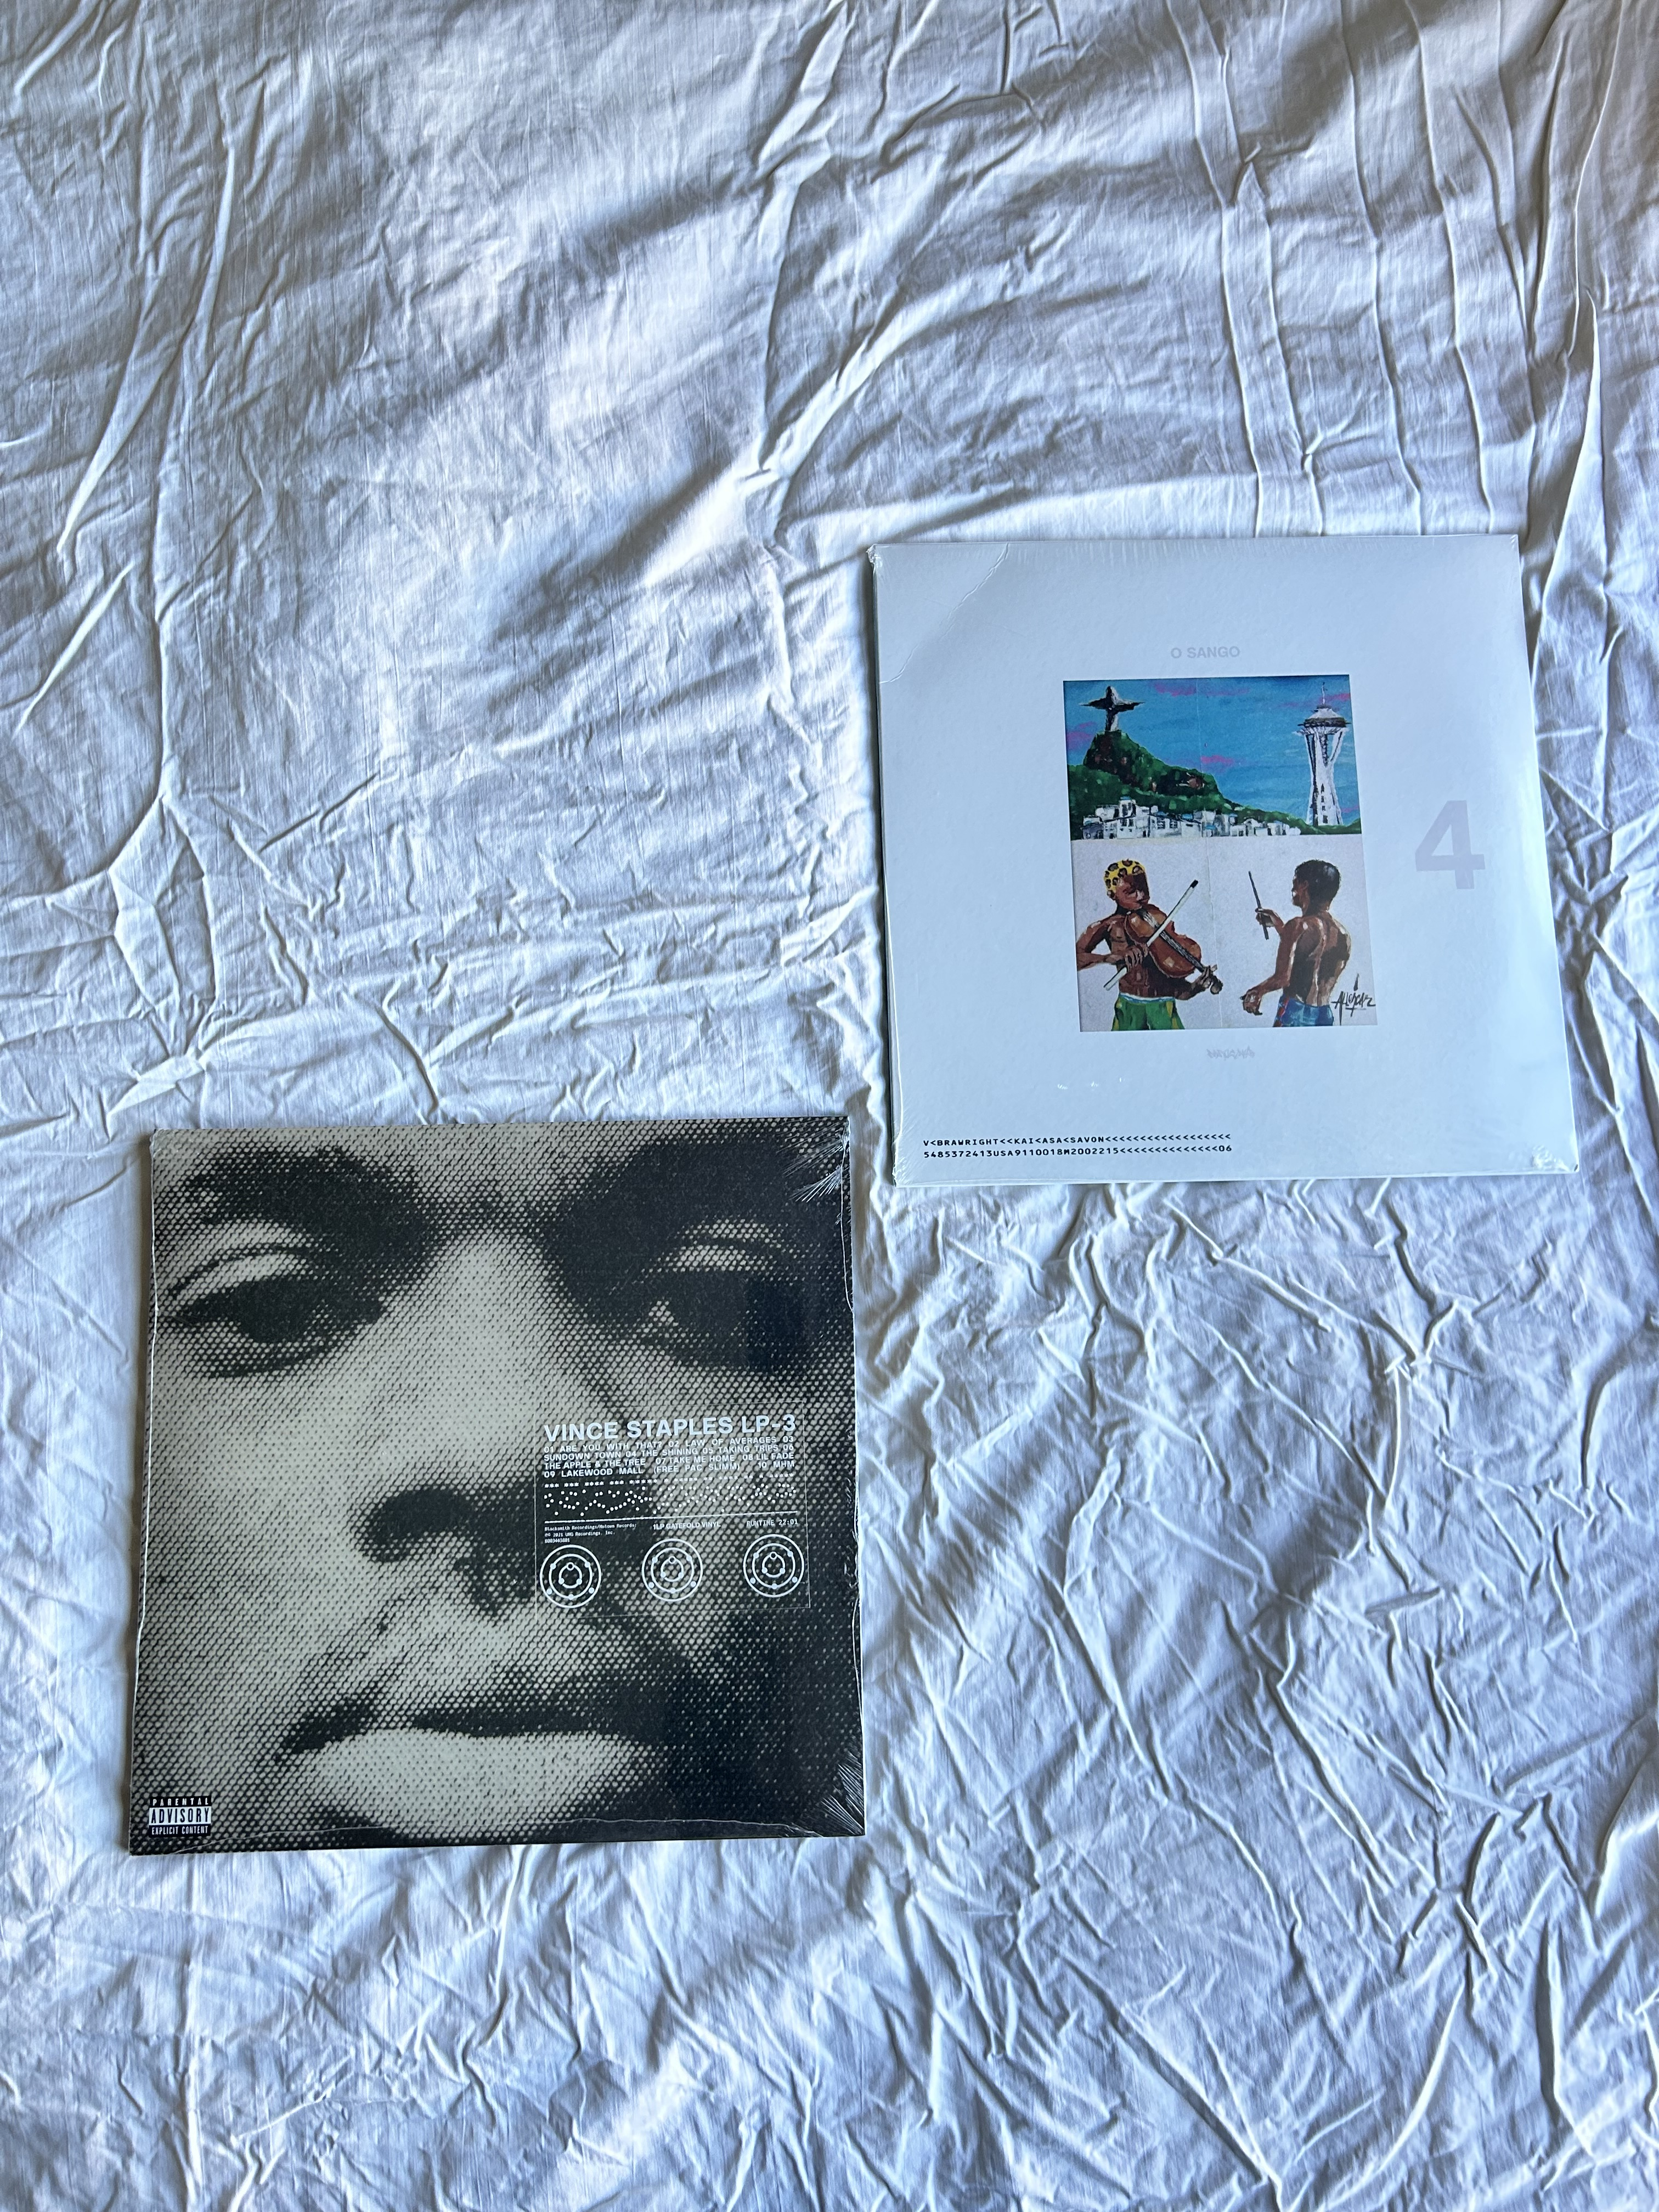sango_da rocinha 4: (864, 549, 1565, 1200)
vince staples_vince staples: (119, 1113, 868, 1844)
